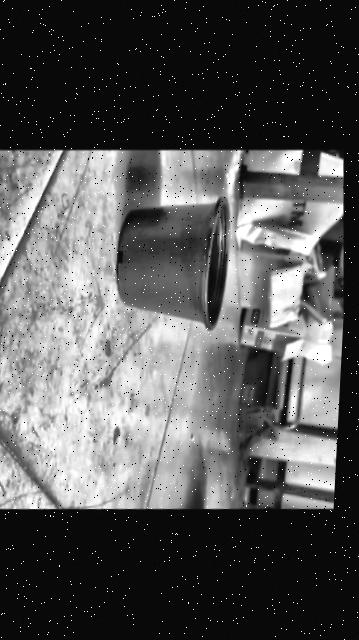pot: (109, 190, 236, 335)
